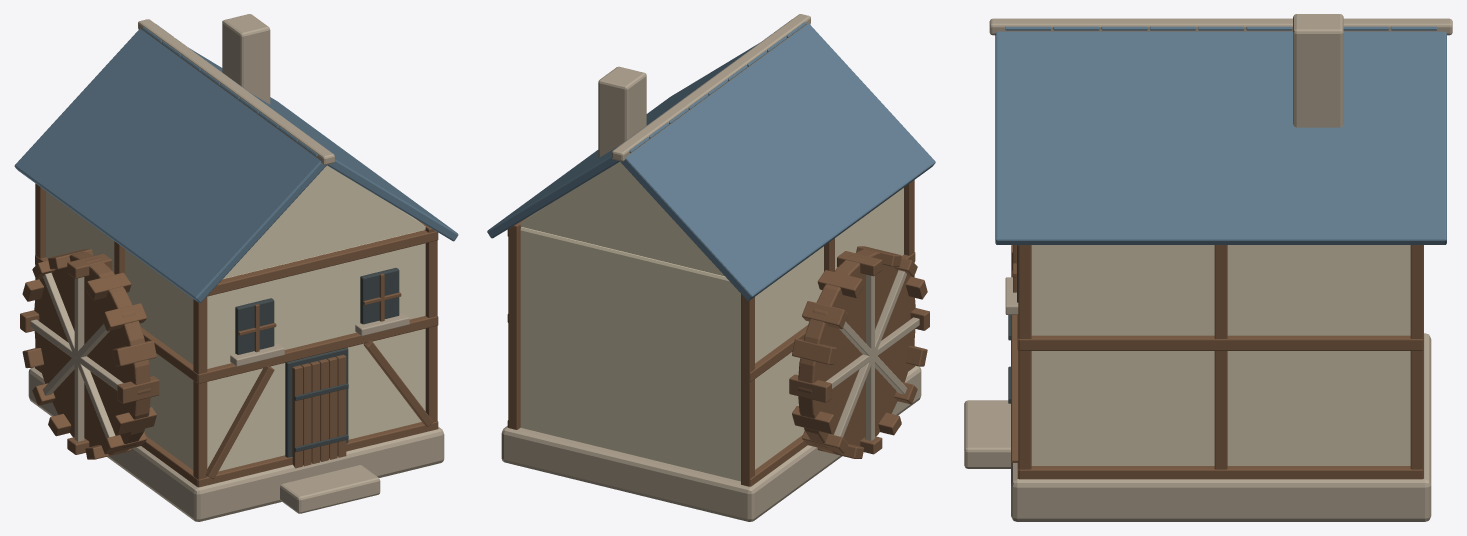
File: mill_house.glb
3 views of the same model, side by side, from view 1: azimuth 30°, elevation 25°; view 2: azimuth 150°, elevation 25°; view 3: azimuth 270°, elevation 25° (orthographic). The views are drawn at different scales.
Parts seen in each view (by area): view 1: SceneryRuntime; view 2: SceneryRuntime; view 3: SceneryRuntime.
Part boxes in pixels (x1,y1,x2,y2): SceneryRuntime: [14, 14, 458, 521]; SceneryRuntime: [487, 14, 935, 521]; SceneryRuntime: [964, 14, 1452, 521].
Bounding box in the file's own units: 5.46 × 6.47 × 6.27.
